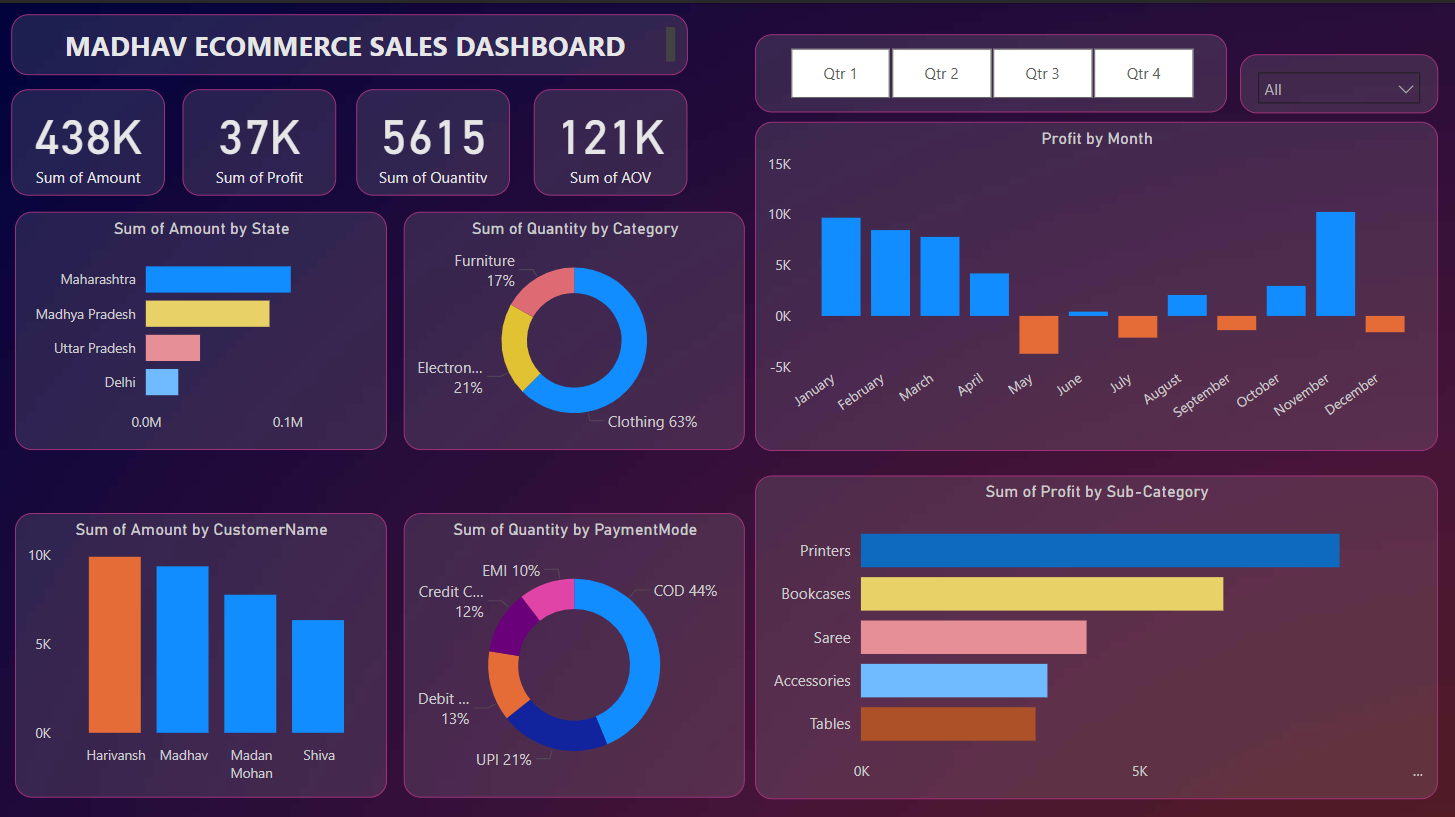

The dashboard page shown, as its layout file describes it:
{"tool":"powerbi","page":{"name":"Page 1","canvas":[1280,720],"ordinal":0},"visuals":[{"type":"textbox","box":[9.7,9.7,595.6,53.3],"z":0},{"type":"columnChart","title":"Profit by Month","fields":{"Y":["Details.Profit"],"Category":["Orders.Order Date.Variation.Date Hierarchy.Month"]},"box":[664.6,104.1,600.4,289.3],"z":1000},{"type":"barChart","fields":{"Category":["Details.Sub-Category"],"Y":["Details.Profit"]},"box":[664.6,415.2,600.4,284.5],"z":2000},{"type":"donutChart","fields":{"Category":["Details.Category"],"Y":["Details.Quantity"]},"box":[354.7,184,300.2,209.4],"z":3000},{"type":"donutChart","fields":{"Y":["Details.Quantity"],"Category":["Details.PaymentMode"]},"box":[354.7,449.1,300.2,250.6],"z":4000},{"type":"card","fields":{"Values":["Details.Amount"]},"box":[9.7,76.3,135.6,93.2],"z":5000},{"type":"card","fields":{"Values":["Details.Profit"]},"box":[161,76.3,135.6,93.2],"z":6000},{"type":"card","fields":{"Values":["Details.Quantity"]},"box":[313.5,76.3,135.6,93.2],"z":7000},{"type":"card","fields":{"Values":["Details.AOV"]},"box":[469.7,76.3,135.6,93.2],"z":8000},{"type":"barChart","fields":{"Category":["Orders.State"],"Y":["Details.Amount"]},"box":[13.3,184,326.8,209.4],"z":9000},{"type":"columnChart","fields":{"Category":["Orders.CustomerName"],"Y":["Details.Amount"]},"box":[13.3,449.1,326.8,250.6],"z":10000},{"type":"slicer","fields":{"Values":["Orders.Order Date.Variation.Date Hierarchy.Quarter"]},"box":[664.6,27.8,415.2,69],"z":11000},{"type":"slicer","fields":{"Values":["Orders.State"]},"box":[1090.7,44.8,174.3,52.1],"z":12000}]}

Visuals, with their boxes in screenshot pixels (x1, y1, x2, y2), scaled from the page's 1280x720 canvas onto the 1455x817 screenshot:
textbox: left=11, top=11, right=688, bottom=71
"Profit by Month" columnChart: left=755, top=118, right=1438, bottom=446
barChart - Details.Sub-Category x Details.Profit: left=755, top=471, right=1438, bottom=794
donutChart - Details.Category x Details.Quantity: left=403, top=209, right=744, bottom=446
donutChart - Details.Quantity x Details.PaymentMode: left=403, top=510, right=744, bottom=794
card - Details.Amount: left=11, top=87, right=165, bottom=192
card - Details.Profit: left=183, top=87, right=337, bottom=192
card - Details.Quantity: left=356, top=87, right=511, bottom=192
card - Details.AOV: left=534, top=87, right=688, bottom=192
barChart - Orders.State x Details.Amount: left=15, top=209, right=387, bottom=446
columnChart - Orders.CustomerName x Details.Amount: left=15, top=510, right=387, bottom=794
slicer - Orders.Order Date.Variation.Date Hierarchy.Quarter: left=755, top=32, right=1227, bottom=110
slicer - Orders.State: left=1240, top=51, right=1438, bottom=110
